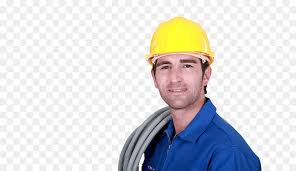casco: (144, 15, 215, 66)
